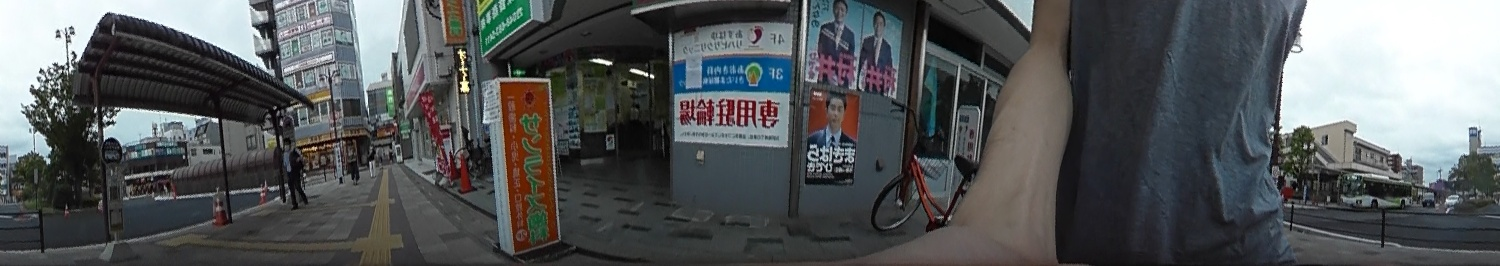difficult_person: (365, 145, 376, 177)
person: (278, 137, 310, 210)
